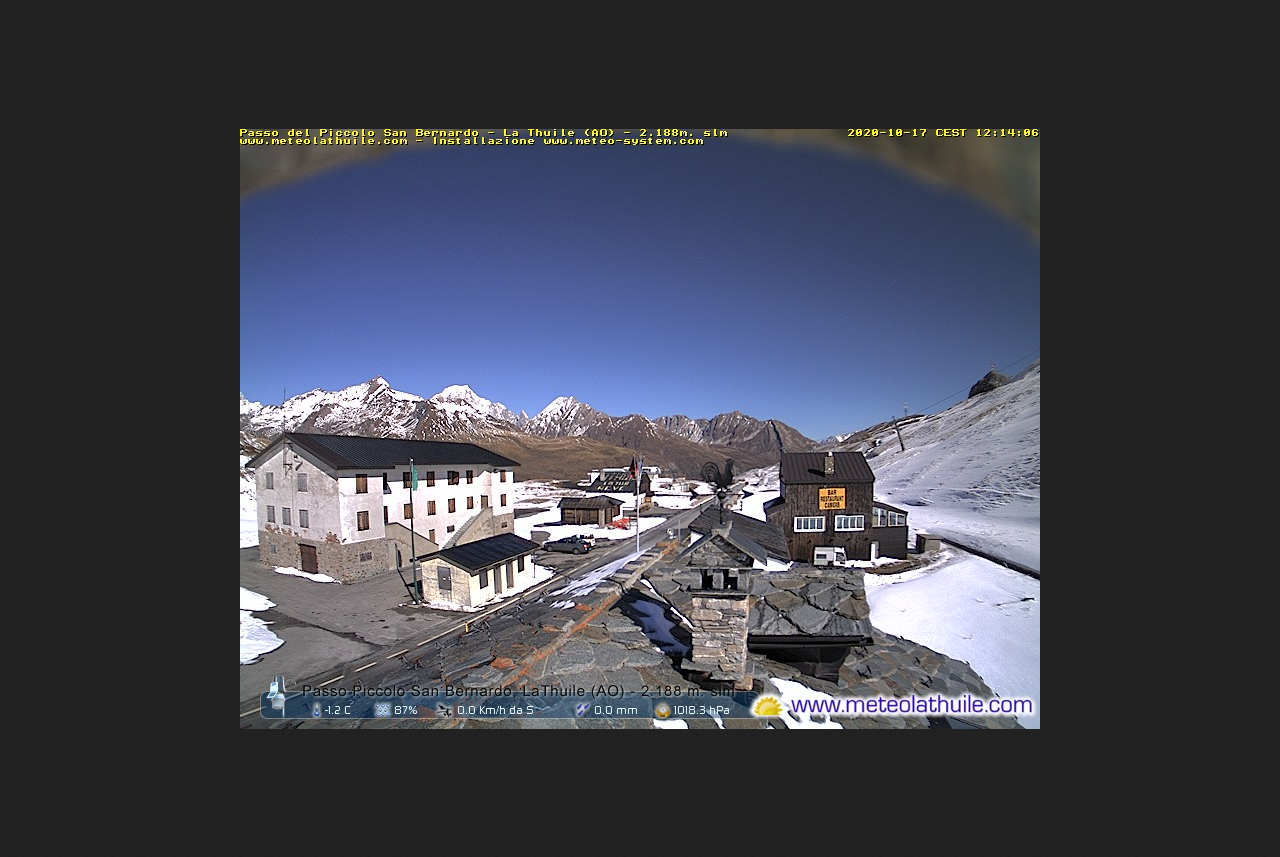no: (408, 460, 421, 487), (634, 452, 644, 484), (628, 453, 637, 485)
